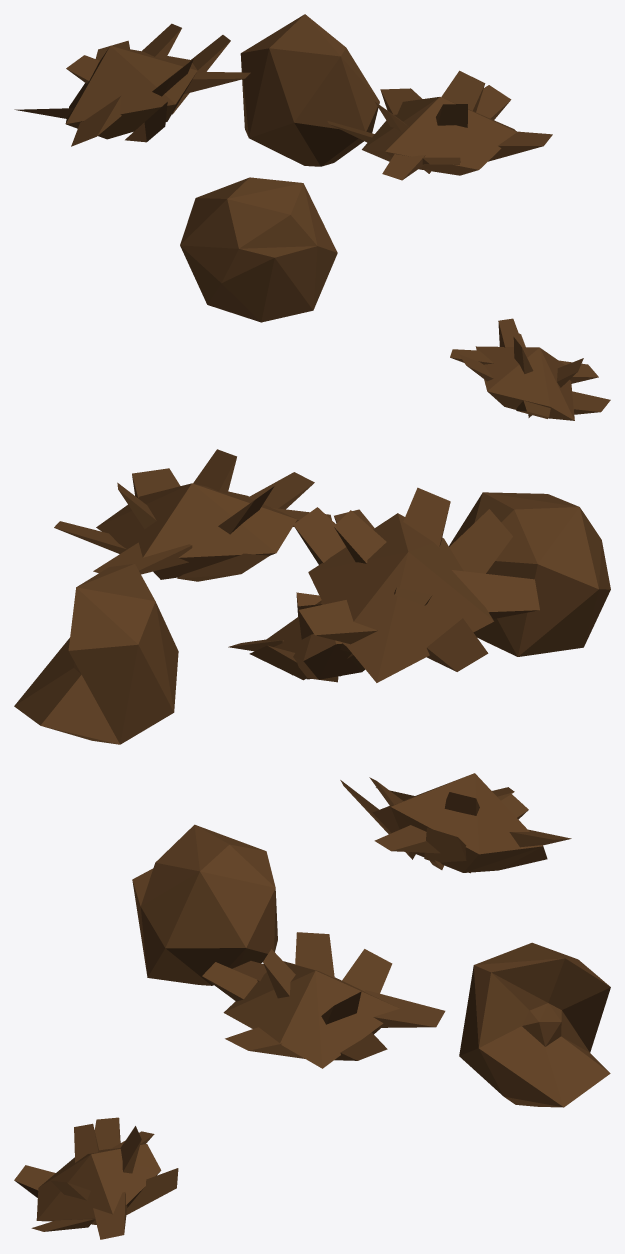
The model's file is SM_Flower_Dandelion_Floating_Bloomed_A.fbx.
3 views of the same model, one above another, from view 1: azimuth 30°, elevation 25°; view 2: azimuth 150°, elevation 25°; view 3: azimuth 270°, elevation 25° (orthographic). The views are drawn at different scales.
Parts seen in each view (by area): view 1: flower-dandelion-floating-bloomed-a; view 2: flower-dandelion-floating-bloomed-a; view 3: flower-dandelion-floating-bloomed-a.
Boxes of the visible parts, x1,y1,x2,y2 form: flower-dandelion-floating-bloomed-a: (14,14,610,420); flower-dandelion-floating-bloomed-a: (14,449,610,744); flower-dandelion-floating-bloomed-a: (14,773,610,1239).
Size of the model in its own units: 0.342 by 0.2372 by 0.3838.
